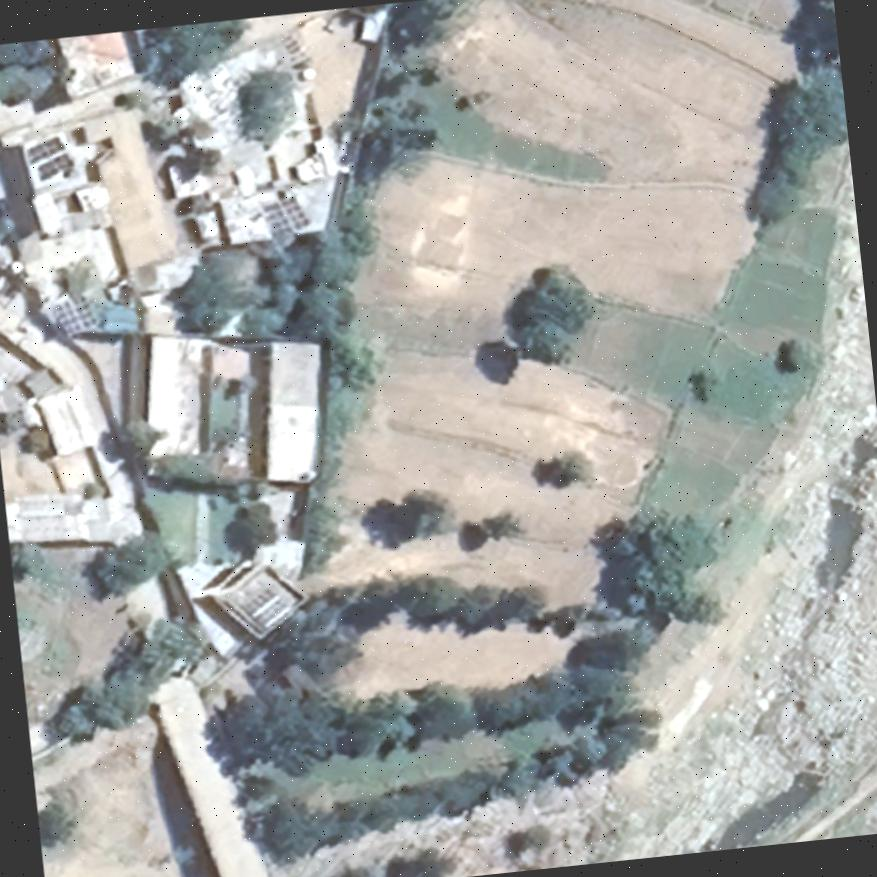Solarpanel: (264, 197, 310, 236), (54, 296, 96, 338), (22, 134, 66, 165), (34, 151, 76, 182)
